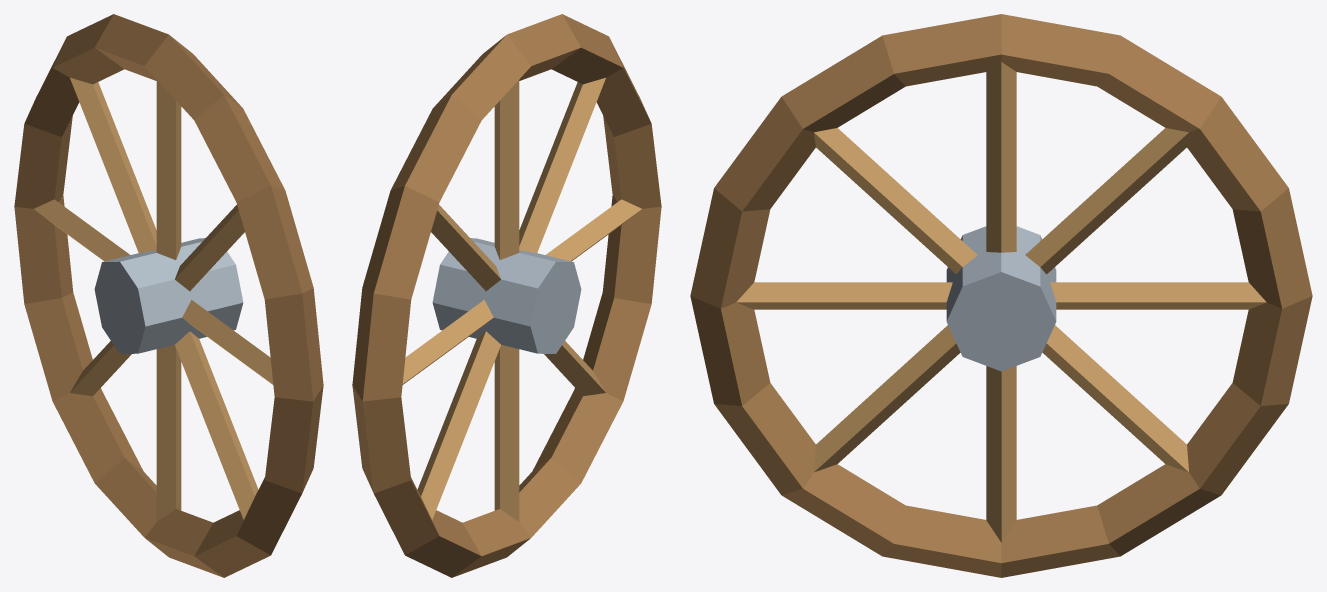
Rendered from prop_wagon_wheel.glb.
3 renders of one model, left to right at view 1: azimuth 30°, elevation 25°; view 2: azimuth 150°, elevation 25°; view 3: azimuth 270°, elevation 25°, orthographic. The views are drawn at different scales.
Parts seen in each view (by area): view 1: prop_wagon_wheel; view 2: prop_wagon_wheel; view 3: prop_wagon_wheel.
Boxes of the visible parts, x1,y1,x2,y2 form: prop_wagon_wheel: (14, 14, 323, 577); prop_wagon_wheel: (352, 14, 661, 577); prop_wagon_wheel: (690, 14, 1312, 577).
Bounding box in the file's own units: 0.2 × 1.02 × 1.02.
